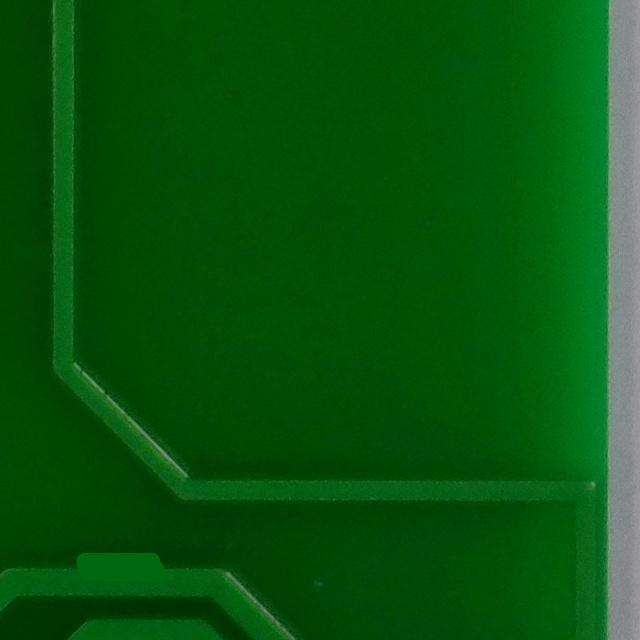spur: (60, 531, 182, 610)
